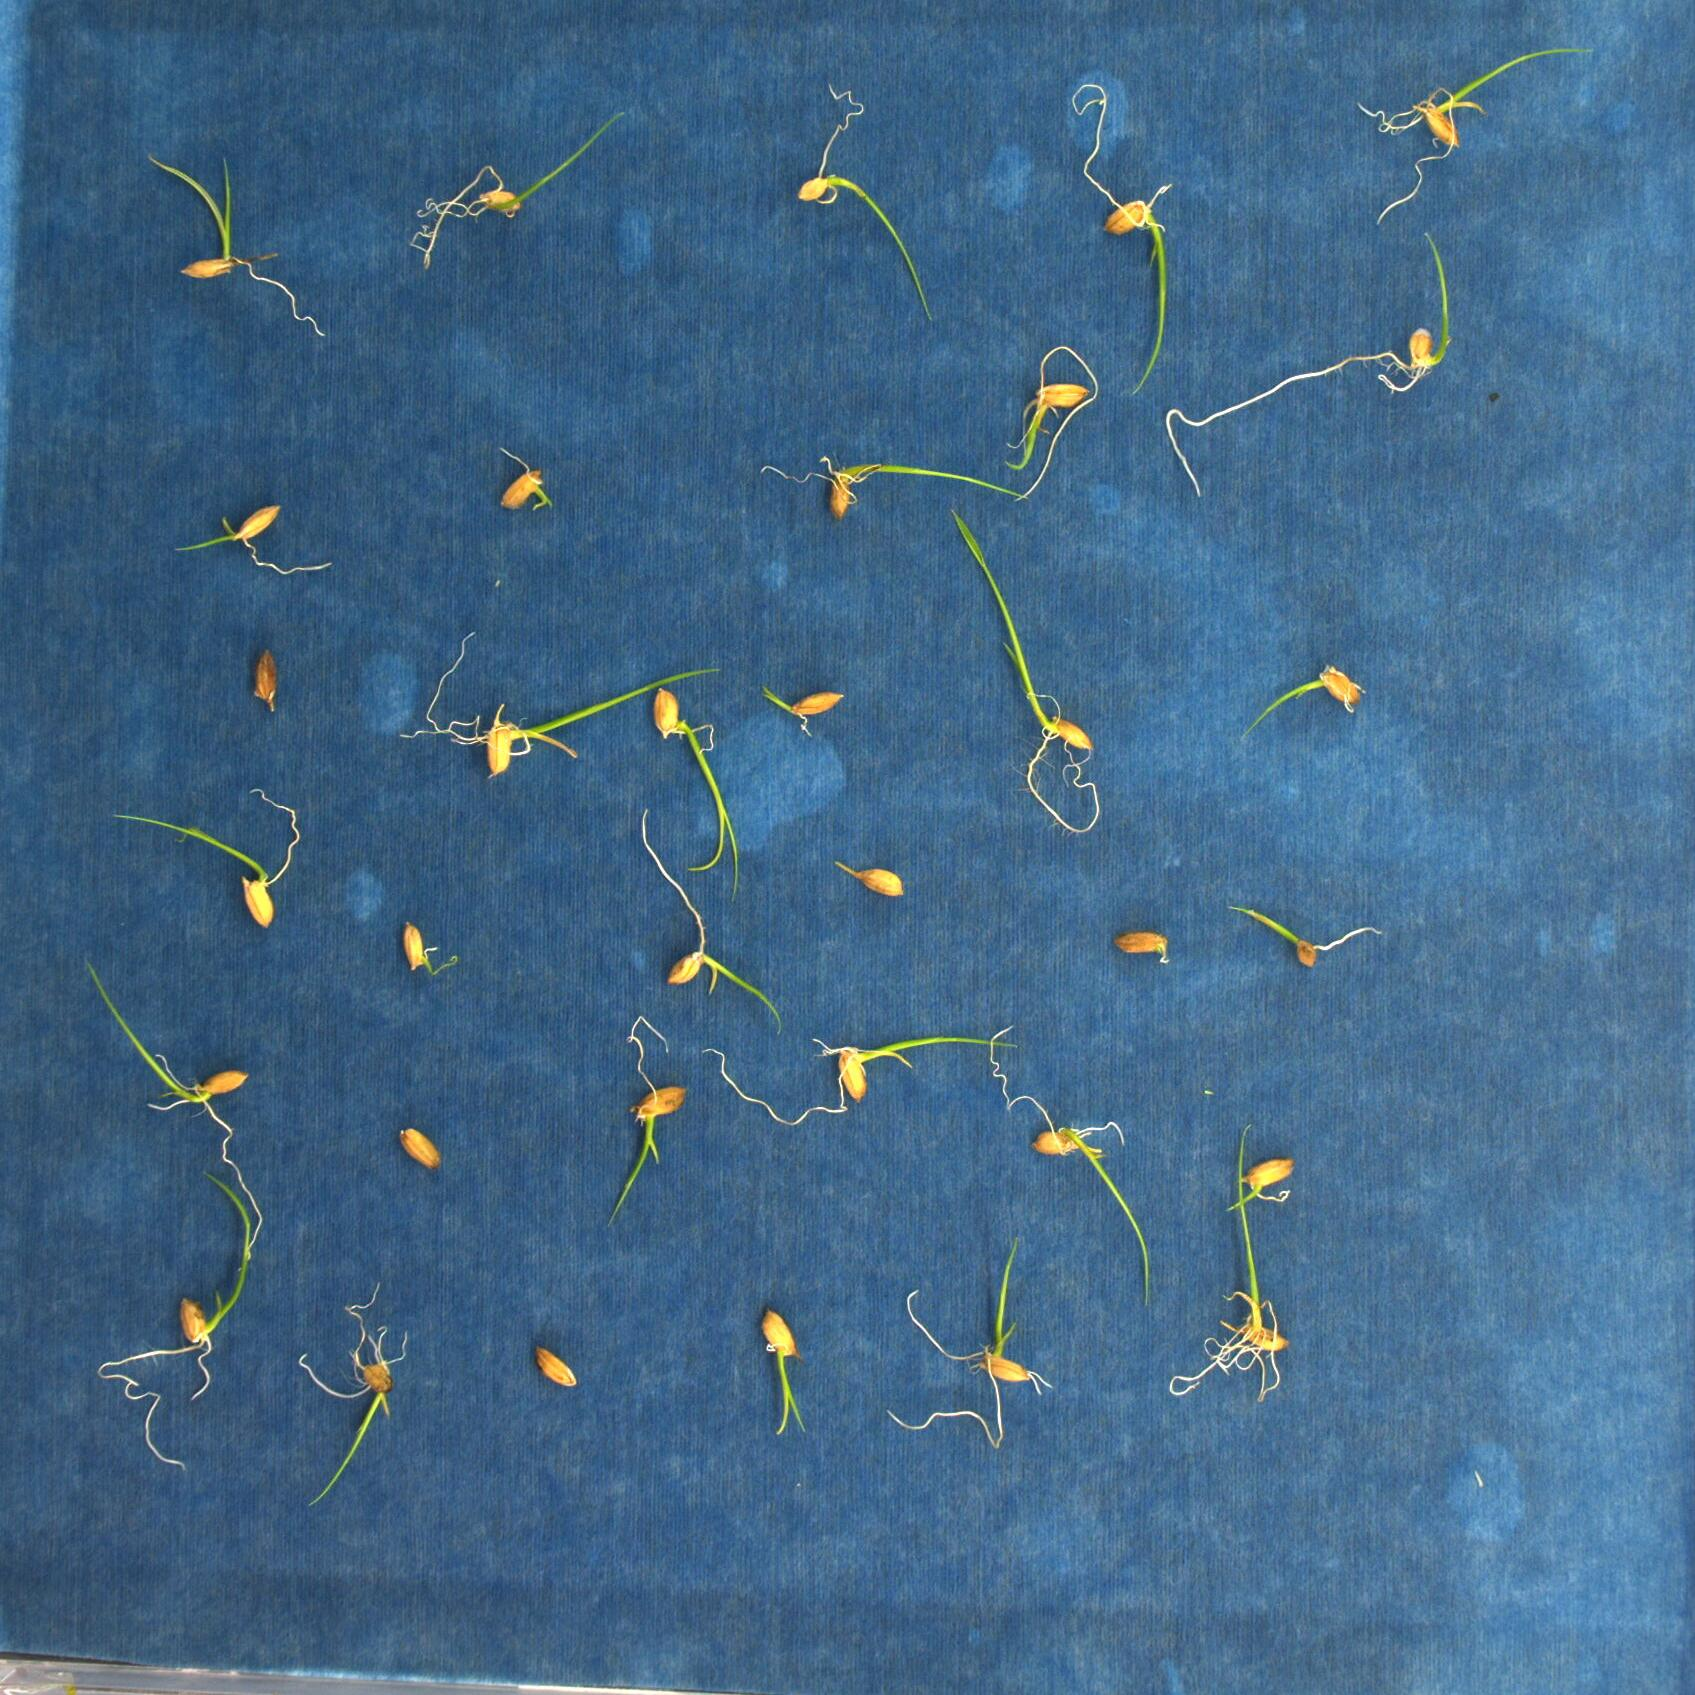not sprout: (834, 855, 911, 900), (248, 649, 282, 719), (1114, 927, 1172, 967), (531, 1349, 582, 1391), (396, 1125, 439, 1169)
sprout: (1166, 230, 1458, 498), (82, 958, 265, 1270), (947, 500, 1104, 838), (391, 629, 725, 781), (987, 1020, 1153, 1309), (98, 1167, 255, 1470), (1354, 40, 1600, 230), (133, 149, 331, 340), (405, 102, 627, 270), (1167, 1125, 1298, 1406), (880, 1239, 1051, 1450), (632, 801, 785, 1035), (789, 81, 934, 324), (702, 1023, 1018, 1128), (1071, 81, 1177, 394), (292, 1277, 414, 1510), (112, 785, 303, 930), (649, 685, 744, 896), (602, 1014, 692, 1225), (756, 453, 1029, 522), (1003, 341, 1102, 508), (175, 498, 338, 577), (1236, 661, 1371, 745), (1222, 900, 1388, 967), (761, 1305, 807, 1440), (761, 683, 843, 740), (1225, 1153, 1295, 1214), (497, 445, 556, 514), (396, 924, 463, 978)
